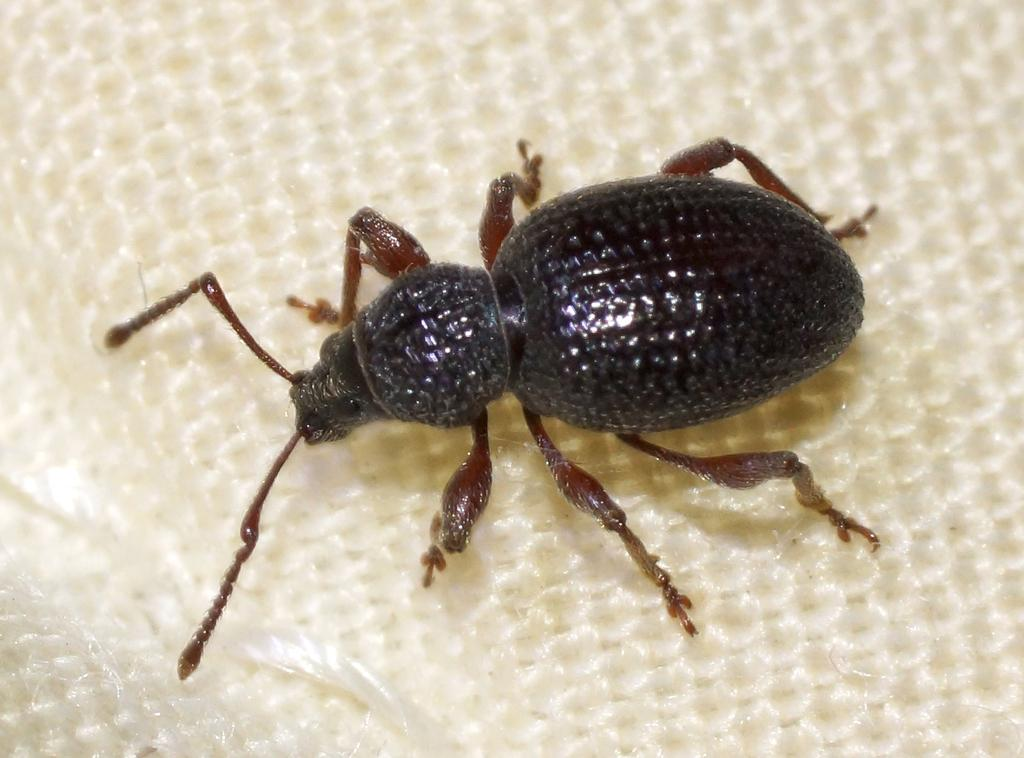weevils: (2, 83, 989, 728)
